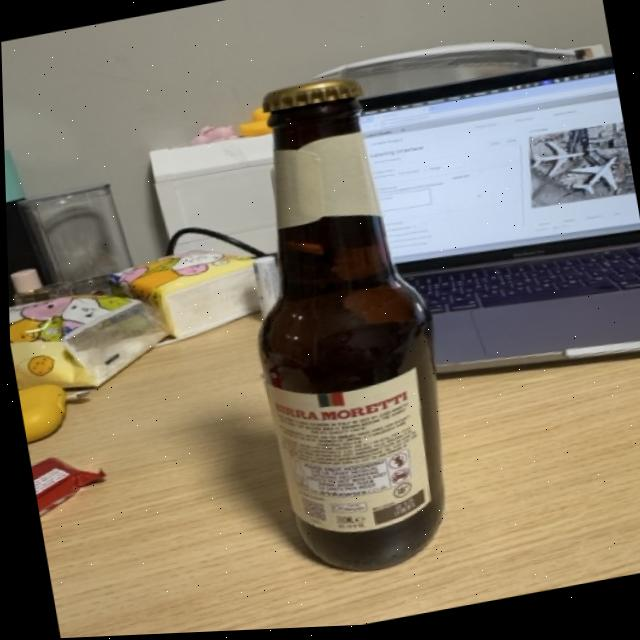beer: (202, 59, 478, 601)
